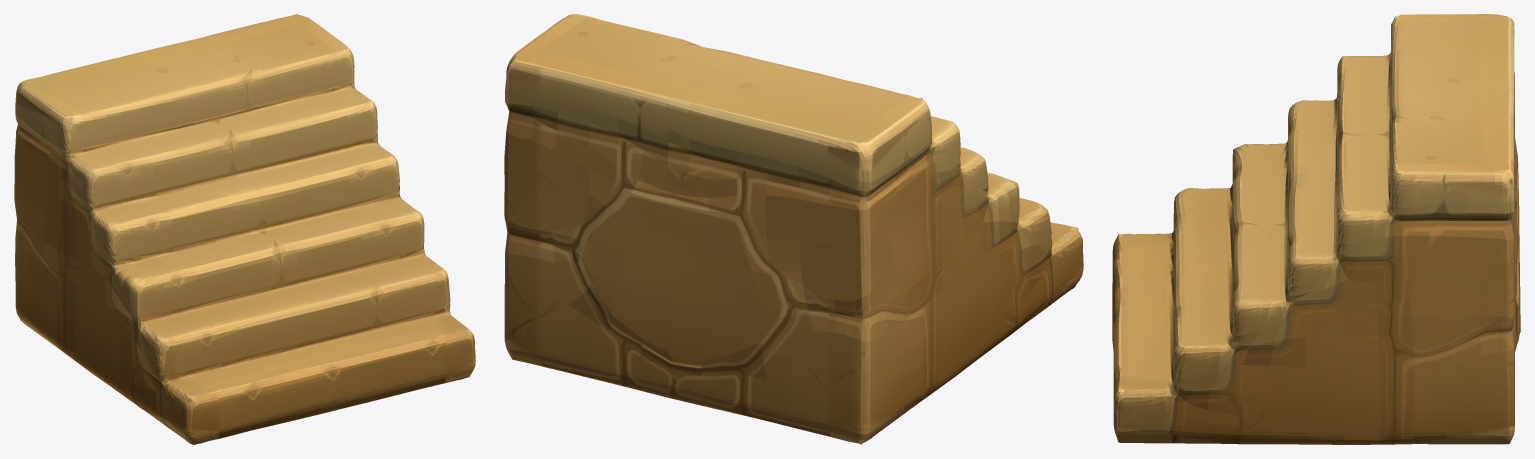
File: Meshy_AI_Golden_Staircase_0530101420_texture.fbx
The picture shows the model from 3 angles, left to right: view 1: azimuth 30°, elevation 25°; view 2: azimuth 150°, elevation 25°; view 3: azimuth 270°, elevation 25°; orthographic projection. The views are drawn at different scales.
Visible parts, largest first — view 1: temp; view 2: temp; view 3: temp.
Boxes of the visible parts, x1=… form: temp: x1=14, y1=14, x2=475, y2=444; temp: x1=504, y1=14, x2=1083, y2=444; temp: x1=1112, y1=14, x2=1520, y2=444.
Bounding box in the file's own units: 127 × 100 × 134.
1 material, 1 textured.
